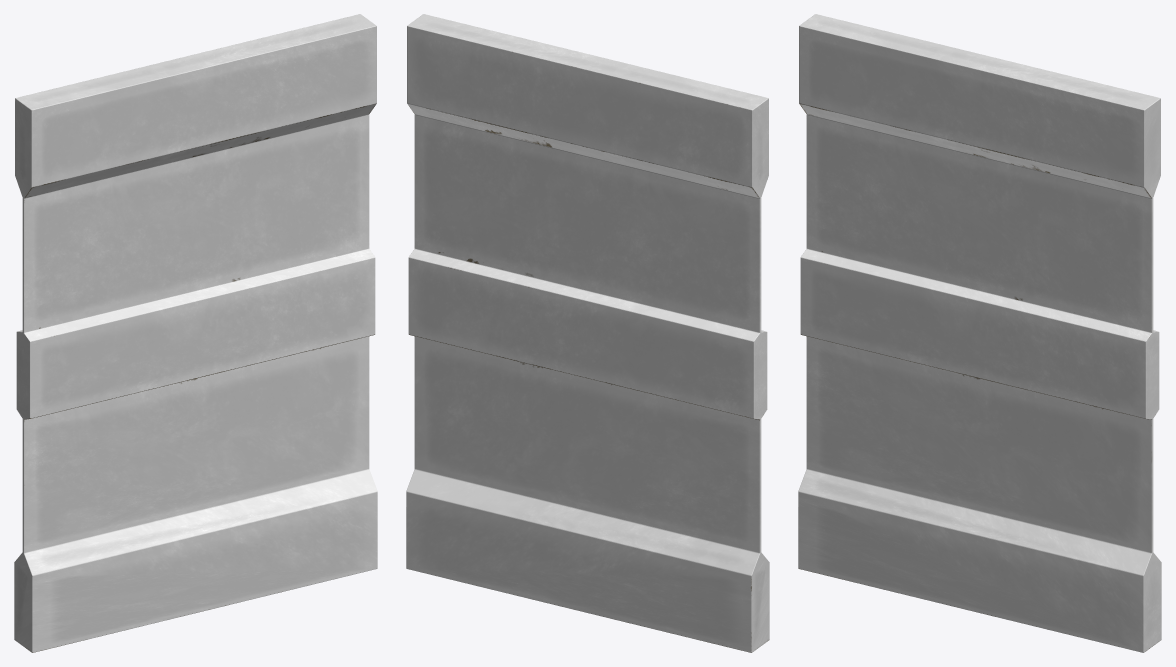
Rendered from Wall Striaght.glb.
3 views of the same model, side by side, from view 1: azimuth 30°, elevation 25°; view 2: azimuth 150°, elevation 25°; view 3: azimuth 330°, elevation 25° (orthographic).
Parts seen in each view (by area): view 1: Straight Wall Base; view 2: Straight Wall Base; view 3: Straight Wall Base.
Part boxes in pixels (<box>): Straight Wall Base: <box>14,14,377,652</box>; Straight Wall Base: <box>406,14,769,652</box>; Straight Wall Base: <box>798,14,1161,652</box>.
Bounding box in the file's own units: 2 × 3 × 0.1839.
Materials: 1 (1 with a texture image).
